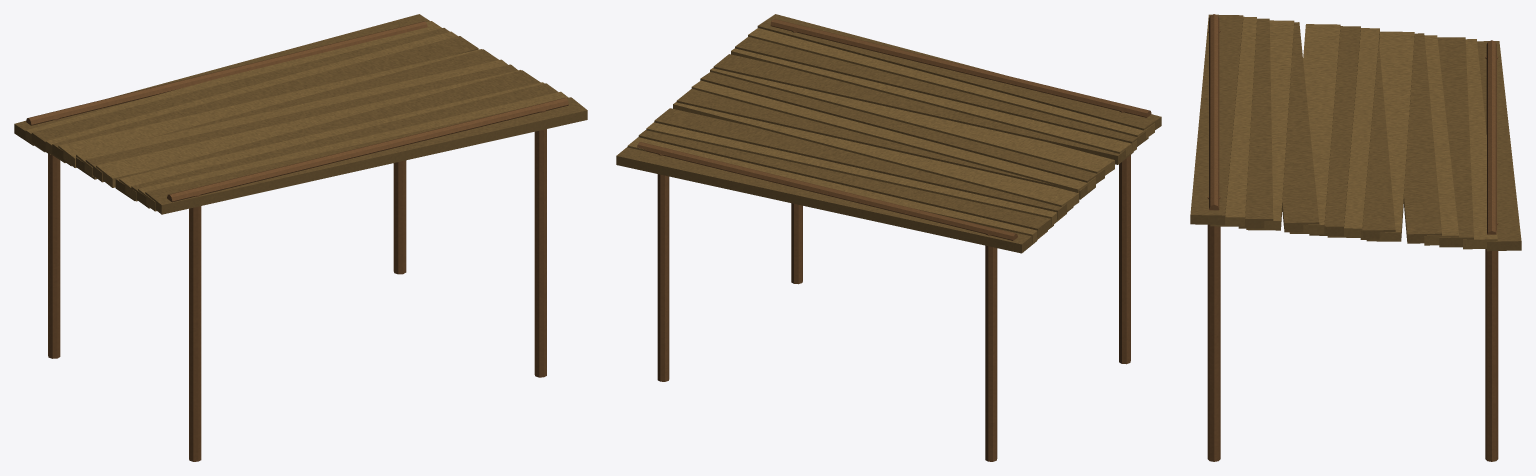
The model's file is pergola.glb.
The picture shows the model from 3 angles, left to right: view 1: azimuth 30°, elevation 25°; view 2: azimuth 150°, elevation 25°; view 3: azimuth 270°, elevation 25°; orthographic projection. The views are drawn at different scales.
Parts seen in each view (by area): view 1: Cylinder; view 2: Cylinder; view 3: Cylinder.
Part boxes in pixels (<box>): Cylinder: <box>14,14,587,461</box>; Cylinder: <box>616,14,1161,461</box>; Cylinder: <box>1190,14,1521,461</box>.
Bounding box in the file's own units: 4.11 × 2.55 × 2.86.
1 material, 1 textured.
